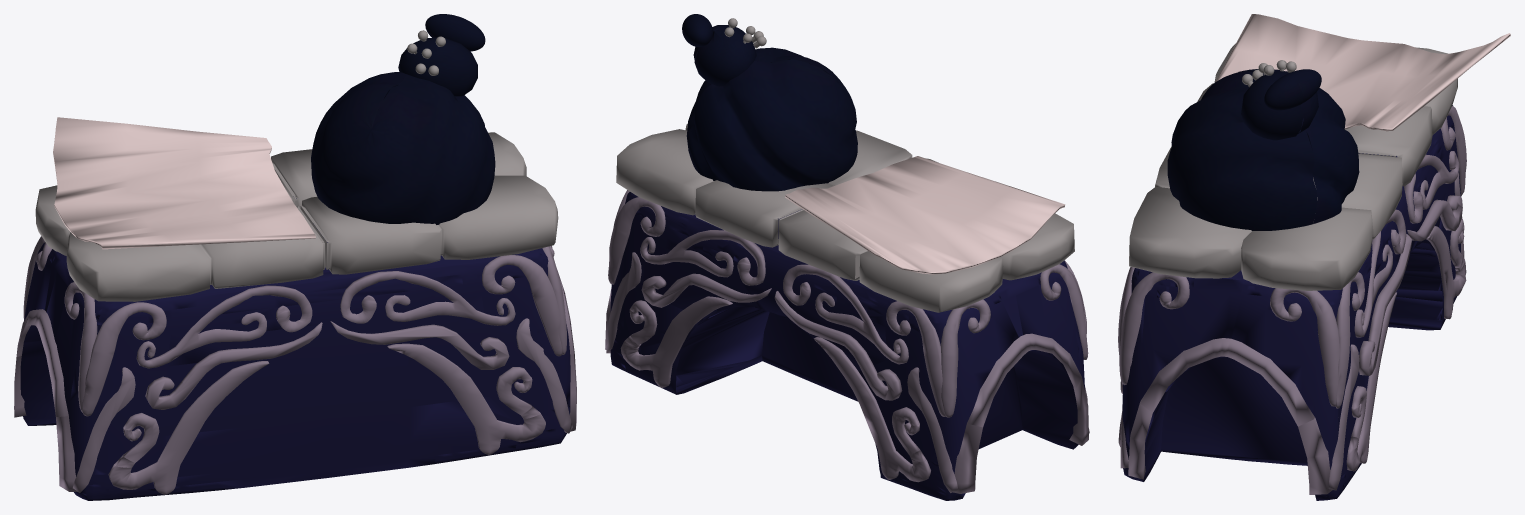
Rendered from hk_mesa_iselda.obj.
3 views of the same model, side by side, from view 1: azimuth 30°, elevation 25°; view 2: azimuth 150°, elevation 25°; view 3: azimuth 270°, elevation 25° (orthographic). The views are drawn at different scales.
Parts seen in each view (by area): view 1: Object_6_Mesa, Object_6_Rosa, Object_6_Void.010, Object_6_DarkMetal, Object_6_Void.011; view 2: Object_6_Mesa, Object_6_Rosa, Object_6_Void.010, Object_6_DarkMetal, Object_6_Void.011; view 3: Object_6_Mesa, Object_6_Rosa, Object_6_DarkMetal, Object_6_Void.010, Object_6_Void.011, Object_6_Aluminium.
Boxes of the visible parts, bbox=[...] form: Object_6_Mesa: bbox=[20, 196, 570, 500]; Object_6_Rosa: bbox=[14, 236, 576, 494]; Object_6_Void.010: bbox=[35, 132, 558, 301]; Object_6_DarkMetal: bbox=[311, 14, 495, 224]; Object_6_Void.011: bbox=[53, 117, 315, 249]; Object_6_Mesa: bbox=[610, 192, 1084, 500]; Object_6_Rosa: bbox=[605, 190, 1089, 493]; Object_6_Void.010: bbox=[616, 123, 1074, 312]; Object_6_DarkMetal: bbox=[682, 14, 857, 191]; Object_6_Void.011: bbox=[785, 156, 1065, 274]; Object_6_Mesa: bbox=[1122, 105, 1461, 500]; Object_6_Rosa: bbox=[1118, 106, 1466, 494]; Object_6_DarkMetal: bbox=[1167, 69, 1359, 230]; Object_6_Void.010: bbox=[1129, 43, 1457, 290]; Object_6_Void.011: bbox=[1215, 14, 1510, 131]; Object_6_Aluminium: bbox=[1242, 60, 1296, 87].
Size of the model in its own units: 2.41 by 1.8 by 1.62.
